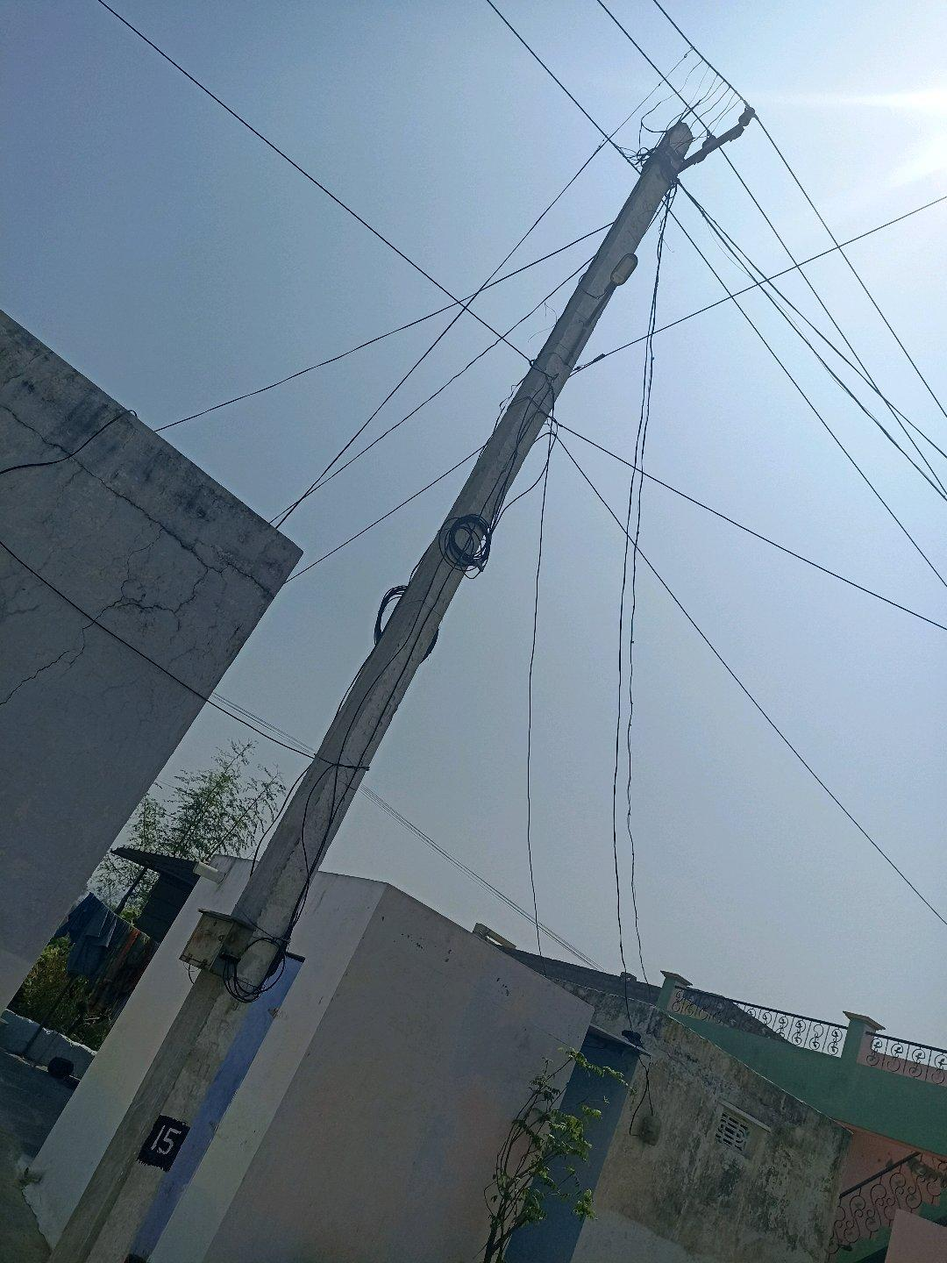{"0" "insulator", "1" "pole", "2" "crossarm", "3" "conductor", "4" "street_: (51, 108, 754, 1262)
